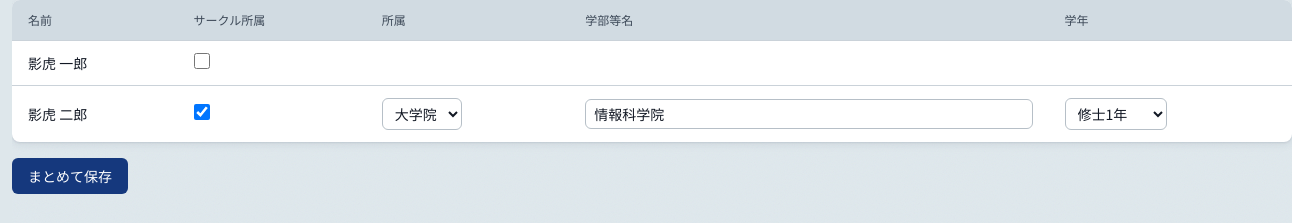
Test: CircleBulkEditTable › チェックを入れると所属・学部等名・学年が開く
Click the checkbox named "影虎 一郎 のサークル所属" at (202, 61), box [194,53,210,69]
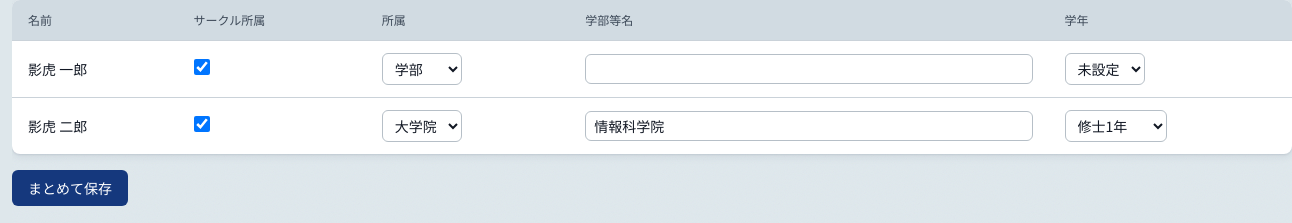
Now the dropdown named "影虎 一郎 の所属" is shown, box [382,53,462,85]
